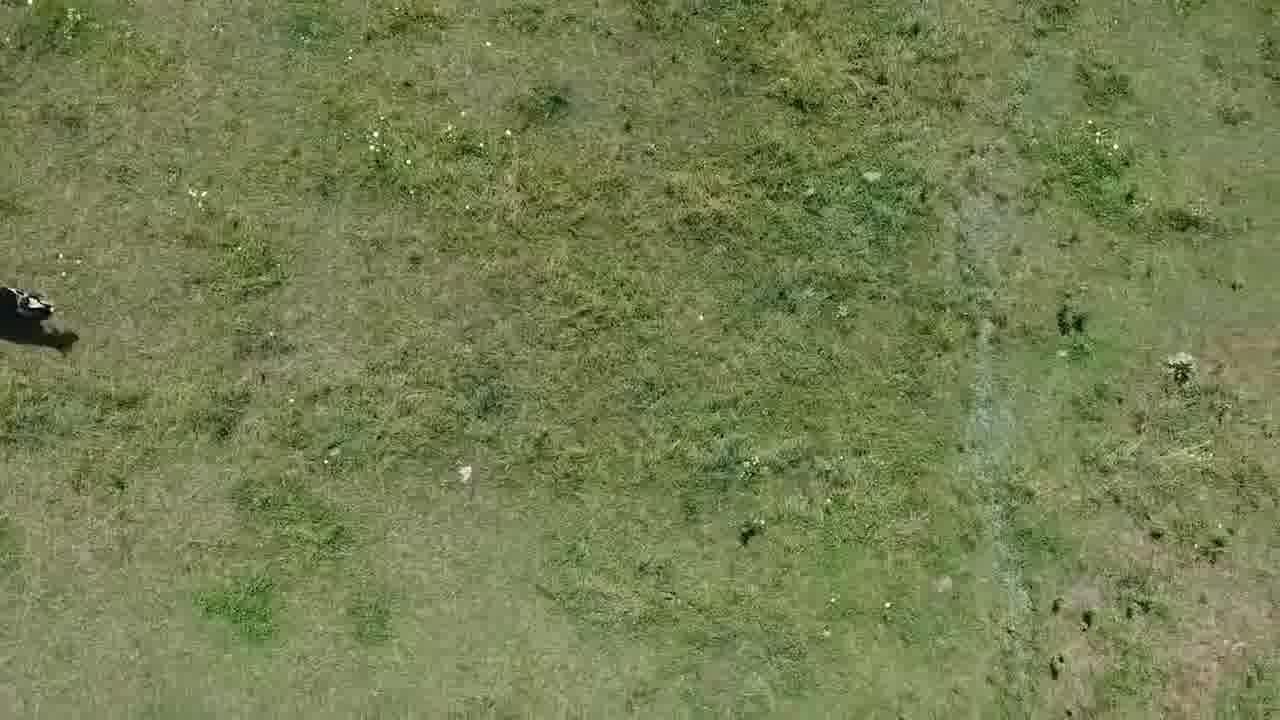cow: (0, 279, 71, 340)
